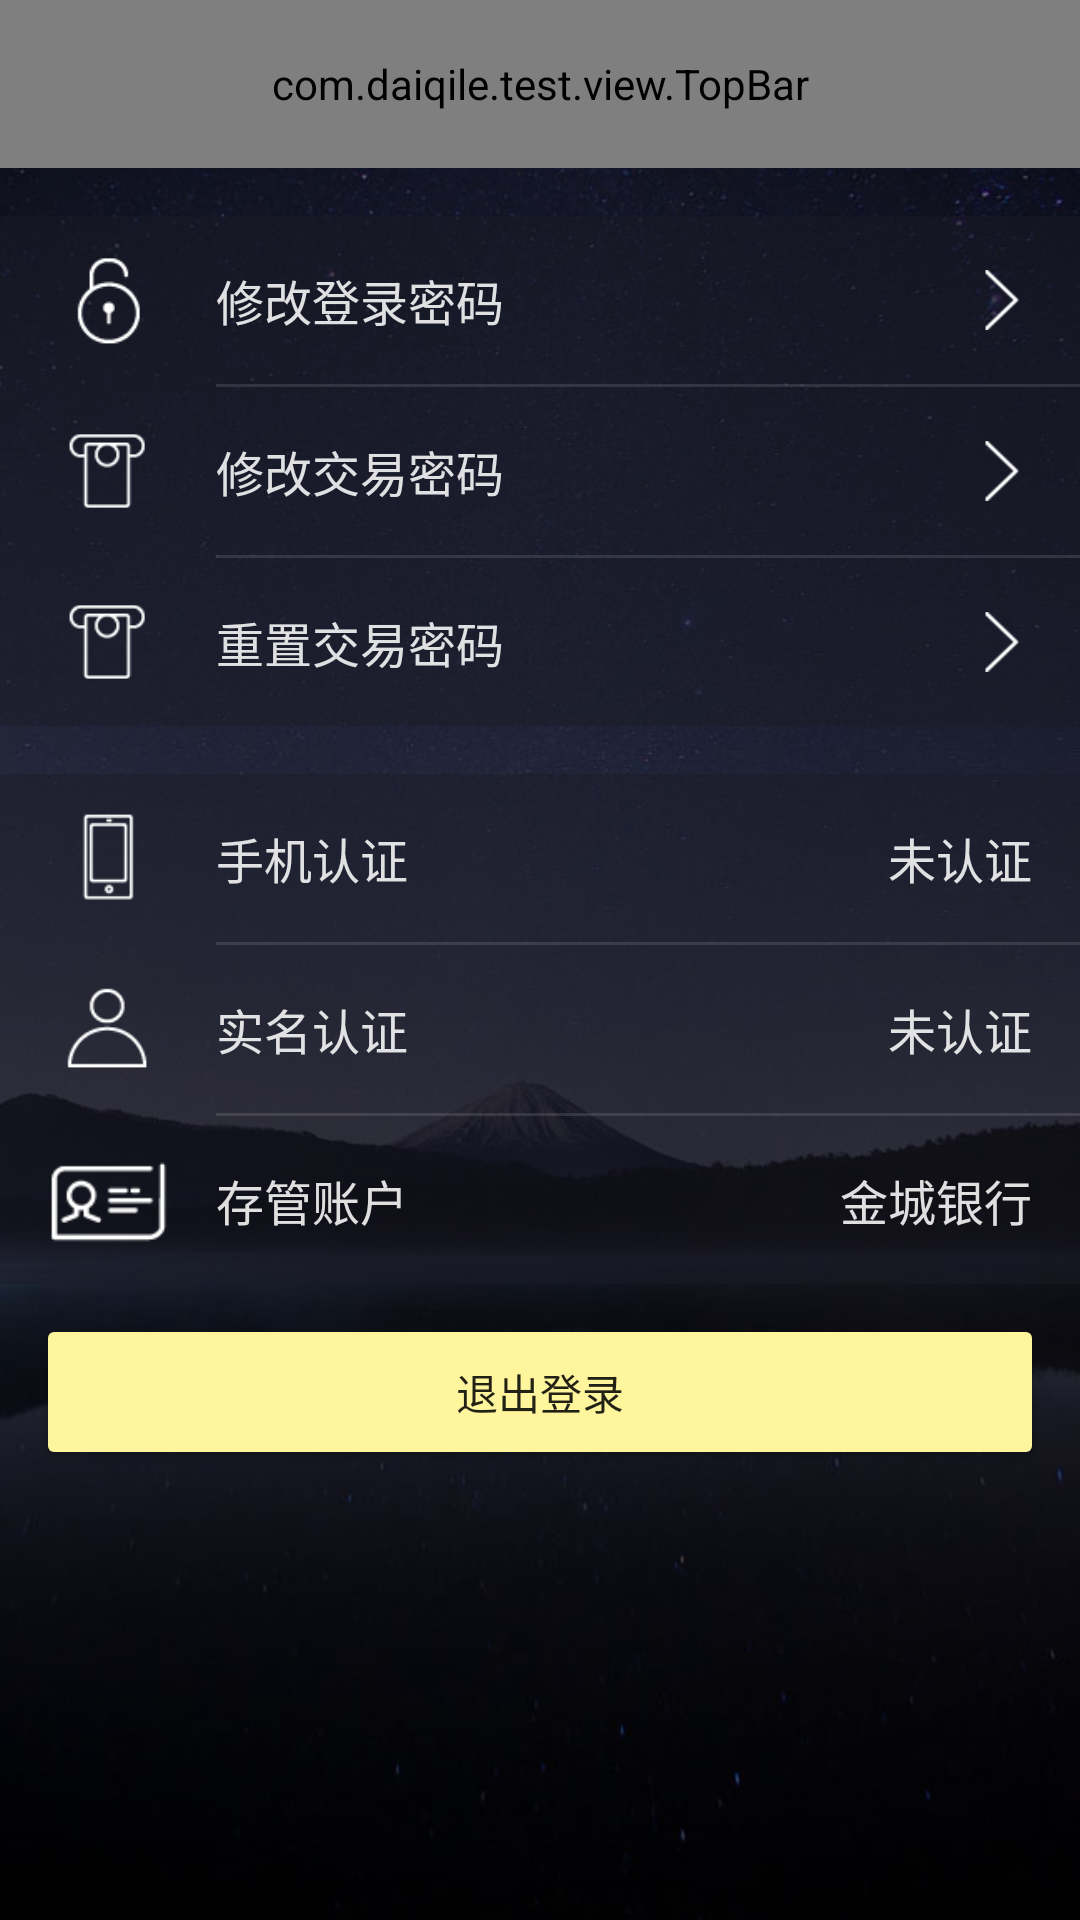

Named icons in this screenshot (1080×1920) and their bounding boxes, (left=x1, top=y1, right=x2, bottom=y2):
next: (left=985, top=270, right=1019, bottom=330), (left=985, top=441, right=1019, bottom=501), (left=985, top=612, right=1019, bottom=672)
open account: (left=51, top=1162, right=166, bottom=1242)
safety phone: (left=83, top=814, right=134, bottom=900)
safety pwd: (left=77, top=244, right=140, bottom=344)
safety realname: (left=67, top=988, right=147, bottom=1068)
